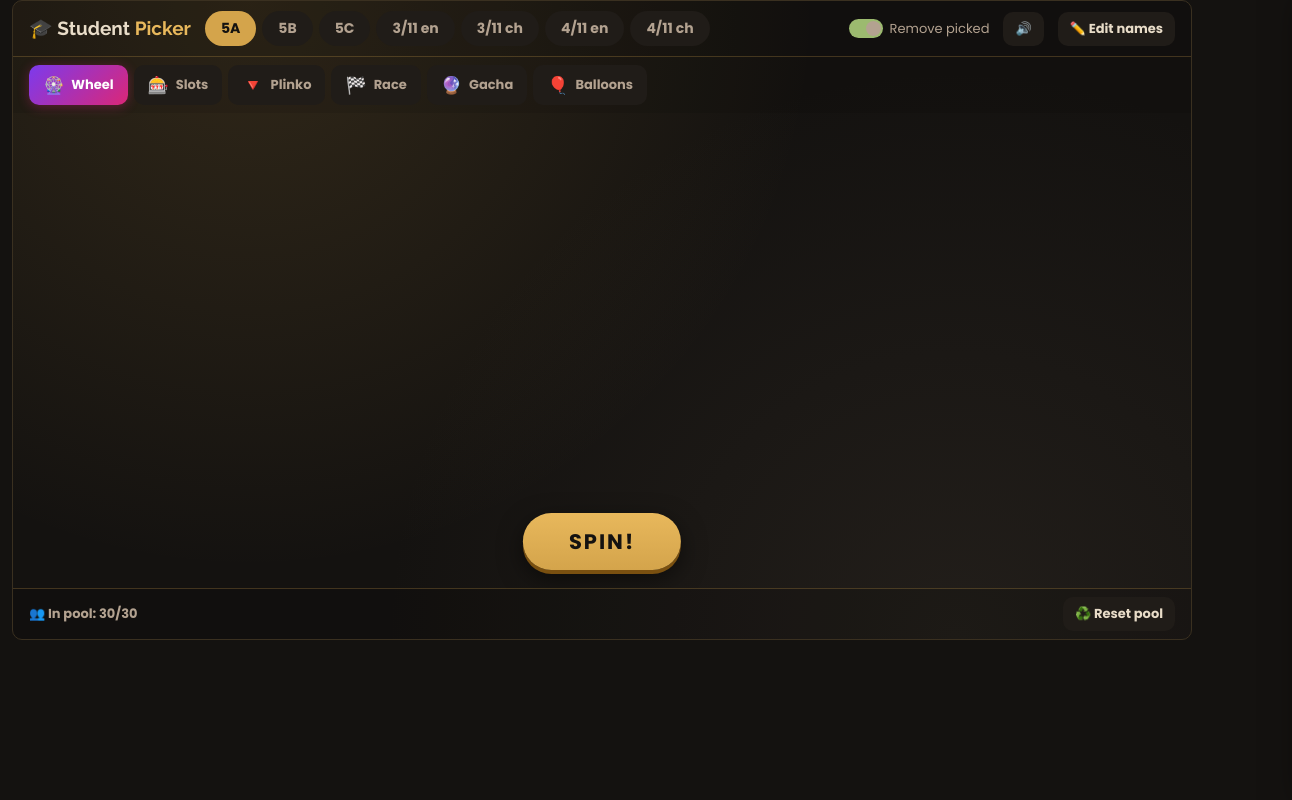
Scenario: WheelOfNames › switching grade tabs shows that grade's own pool
The width and height of the screenshot is (1292, 800).
Click the button "3/11 ch" at (500, 28), box x1=461 y1=11 x2=539 y2=46
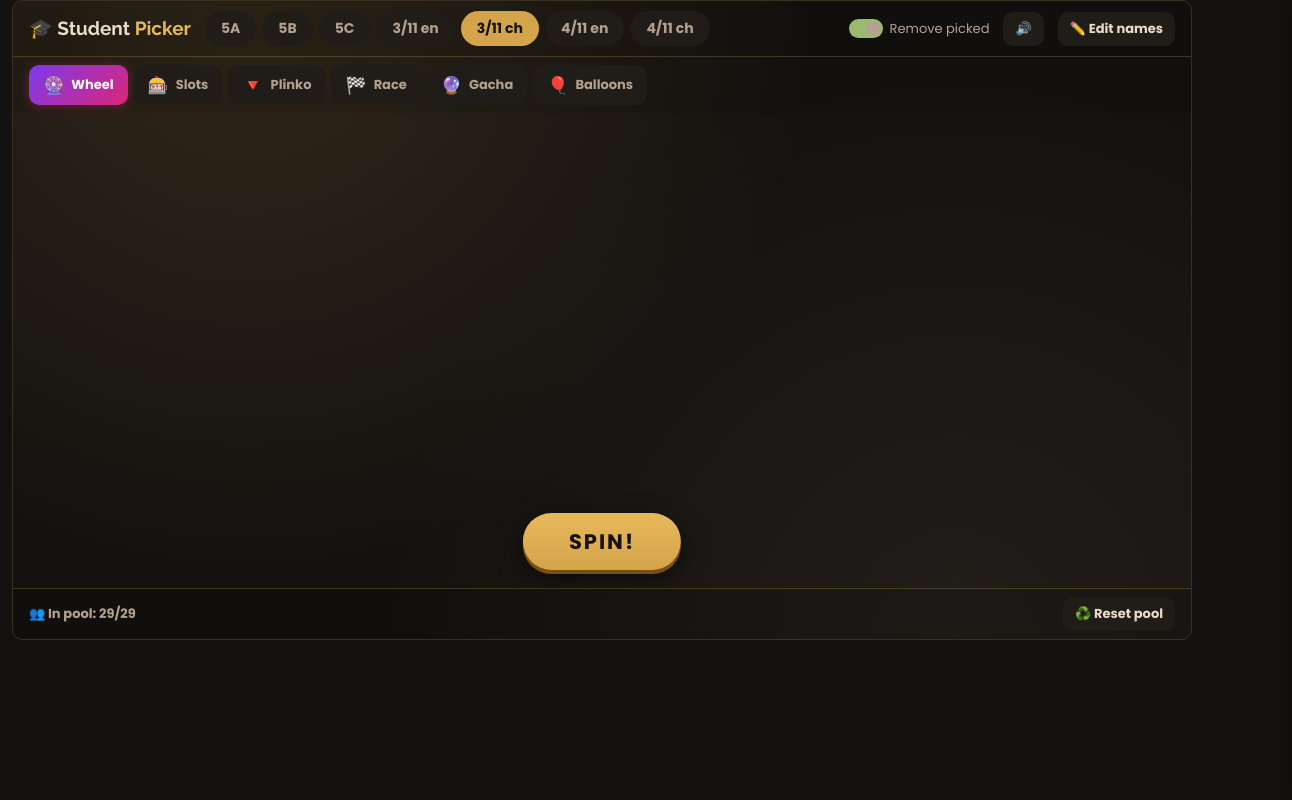
Expected: the text "👥 In pool: 29/29" is shown, x1=29 y1=604 x2=136 y2=624
